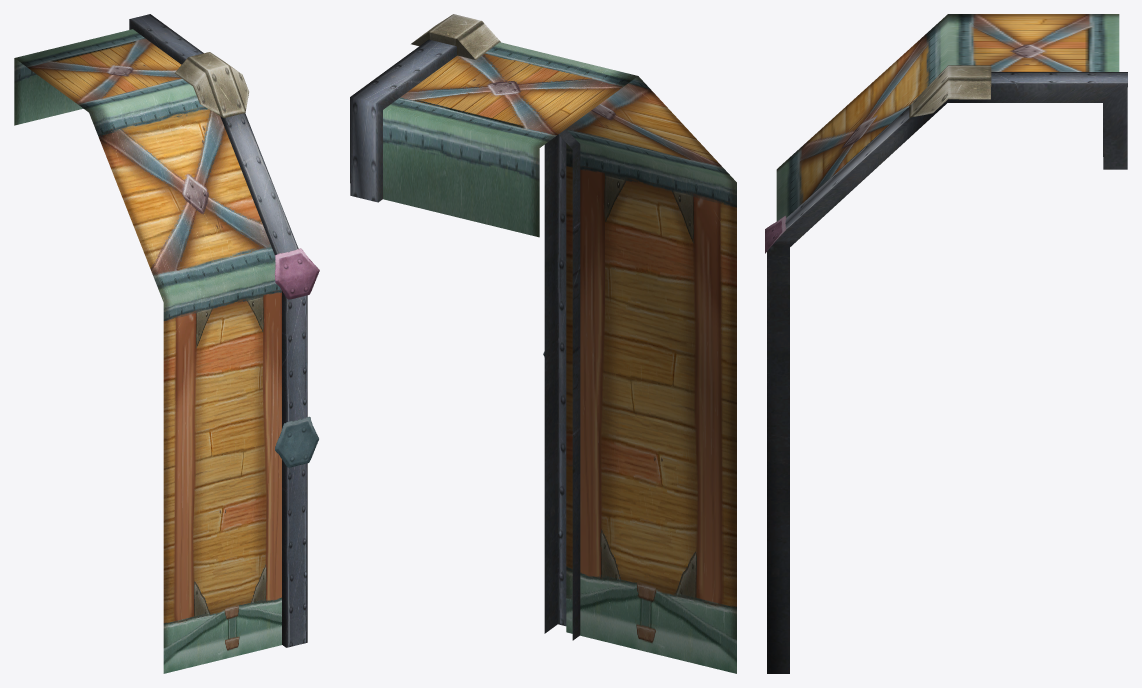
Rendered from obj_madaprrevetment1801.glb.
The picture shows the model from 3 angles, left to right: view 1: azimuth 30°, elevation 25°; view 2: azimuth 150°, elevation 25°; view 3: azimuth 270°, elevation 25°; orthographic projection. The views are drawn at different scales.
Visible parts, largest first — view 1: part_0; view 2: part_0; view 3: part_0.
Part boxes in pixels (<box>): part_0: <box>14,14,319,673</box>; part_0: <box>350,14,736,673</box>; part_0: <box>765,14,1127,673</box>.
Size of the model in its own units: 4.76 by 15.38 by 8.47.
Materials: 1 (1 with a texture image).
